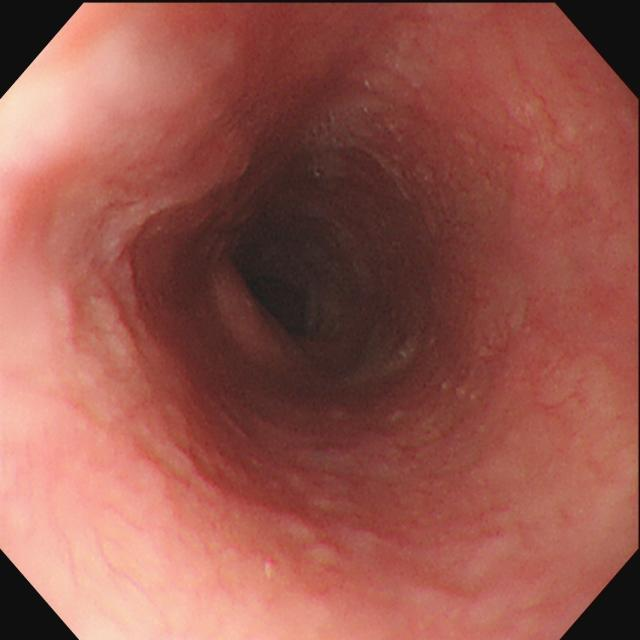E: (230, 212, 366, 361)
